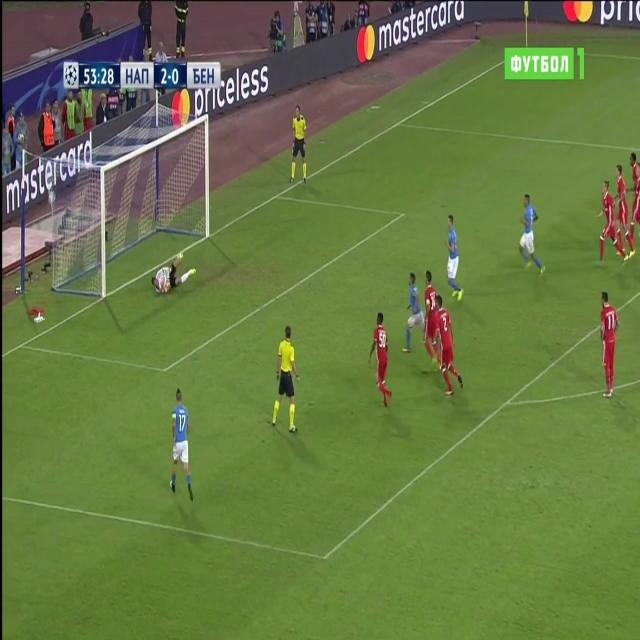Goalkeeper: (151, 249, 199, 299)
Player: (433, 293, 467, 402), (588, 177, 628, 267), (169, 384, 197, 506), (367, 310, 393, 412), (599, 292, 622, 399), (517, 190, 545, 275), (614, 163, 637, 262), (442, 212, 466, 302), (402, 272, 424, 356), (422, 269, 440, 369), (628, 148, 640, 238)
Referee: (270, 323, 301, 440), (287, 102, 310, 190)
